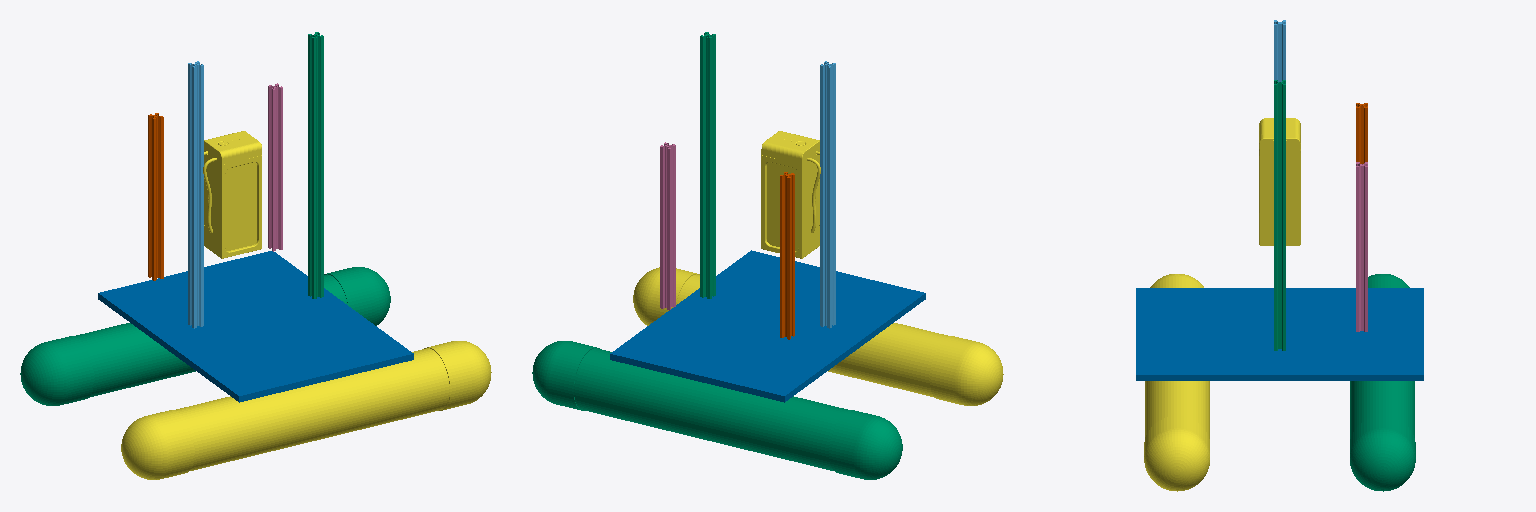
The robot description file, URDF, robot "asv_station_keeping_diag":
<?xml version='1.0' encoding='utf-8'?>
<robot name="asv_station_keeping_diag">
  <!-- Mesh-loading test only. Mounting poses are estimates, not Fusion occurrence transforms. 00_base has no visuals. -->
  <link name="base_footprint" />
  <link name="base_link">
    <inertial>
      <origin xyz="0 0 0" rpy="0 0 0" />
      <mass value="0.1" />
      <inertia ixx="0.0001" ixy="0" ixz="0" iyy="0.0001" iyz="0" izz="0.0001" />
    </inertial>
  </link>
  <link name="hull_left">
    <inertial>
      <origin xyz="0.0017543 -0.0000047 -0.0000010" rpy="0 0 0" />
      <mass value="8.7513272838" />
      <inertia ixx="0.0159438897" ixy="0" ixz="0" iyy="0.7485544942" iyz="0" izz="0.7485544942" />
    </inertial>
    <visual name="hull_left_visual">
      <origin xyz="-0.971730 0.357754 -1.641617" rpy="0 0 -1.57079632679" />
      <geometry>
        <mesh filename="package://asv_station_keeping/meshes/hull.stl" scale="0.001 0.001 0.001" />
      </geometry>
    </visual>
    <collision name="hull_left_collision">
      <geometry>
        <box size="0.724805 0.112973 0.112998" />
      </geometry>
    </collision>
  </link>
  <link name="hull_right">
    <inertial>
      <origin xyz="0.0017543 -0.0000047 -0.0000010" rpy="0 0 0" />
      <mass value="8.7513272838" />
      <inertia ixx="0.0159438897" ixy="0" ixz="0" iyy="0.7485544942" iyz="0" izz="0.7485544942" />
    </inertial>
    <visual name="hull_right_visual">
      <origin xyz="-0.971730 0.357754 -1.641617" rpy="0 0 -1.57079632679" />
      <geometry>
        <mesh filename="package://asv_station_keeping/meshes/hull.stl" scale="0.001 0.001 0.001" />
      </geometry>
    </visual>
    <collision name="hull_right_collision">
      <geometry>
        <box size="0.724805 0.112973 0.112998" />
      </geometry>
    </collision>
  </link>
  <link name="base_deck">
    <inertial>
      <origin xyz="0 0 0" rpy="0 0 0" />
      <mass value="16.1553" />
      <inertia ixx="0.3234344911" ixy="0" ixz="0" iyy="0.1651125511" iyz="0" izz="0.4881593150" />
    </inertial>
    <visual name="base_deck_visual">
      <origin xyz="-0.142254 -0.216347 -0.006000" rpy="1.57079632679 0 0" />
      <geometry>
        <mesh filename="package://asv_station_keeping/meshes/base_deck.stl" scale="0.001 0.001 0.001" />
      </geometry>
    </visual>
    <collision name="base_deck_collision">
      <geometry>
        <box size="0.350 0.490 0.012" />
      </geometry>
    </collision>
  </link>
  <link name="frame1_left">
    <inertial>
      <origin xyz="0 0 0" />
      <mass value="0.41469714" />
      <inertia ixx="0.00333785" ixy="0" ixz="0" iyy="0.00333785" iyz="0" izz="0.0000336422" />
    </inertial>
    <visual>
      <geometry>
        <mesh filename="package://asv_station_keeping/meshes/frame1.stl" scale="0.001 0.001 0.001" />
      </geometry>
    </visual>
    <collision>
      <geometry>
        <cylinder radius="0.010" length="0.310" />
      </geometry>
    </collision>
  </link>
  <link name="frame1_right">
    <inertial>
      <origin xyz="0 0 0" />
      <mass value="0.41469714" />
      <inertia ixx="0.00333785" ixy="0" ixz="0" iyy="0.00333785" iyz="0" izz="0.0000336422" />
    </inertial>
    <visual>
      <geometry>
        <mesh filename="package://asv_station_keeping/meshes/frame1.stl" scale="0.001 0.001 0.001" />
      </geometry>
    </visual>
    <collision>
      <geometry>
        <cylinder radius="0.010" length="0.310" />
      </geometry>
    </collision>
  </link>
  <link name="frame2_left">
    <inertial>
      <origin xyz="0 0 0" />
      <mass value="0.66886635" />
      <inertia ixx="0.01396185" ixy="0" ixz="0" iyy="0.01396185" iyz="0" izz="0.000054262" />
    </inertial>
    <visual>
      <geometry>
        <mesh filename="package://asv_station_keeping/meshes/frame2.stl" scale="0.001 0.001 0.001" />
      </geometry>
    </visual>
    <collision>
      <geometry>
        <cylinder radius="0.010" length="0.500" />
      </geometry>
    </collision>
  </link>
  <link name="frame2_right">
    <inertial>
      <origin xyz="0 0 0" />
      <mass value="0.66886635" />
      <inertia ixx="0.01396185" ixy="0" ixz="0" iyy="0.01396185" iyz="0" izz="0.000054262" />
    </inertial>
    <visual>
      <geometry>
        <mesh filename="package://asv_station_keeping/meshes/frame2.stl" scale="0.001 0.001 0.001" />
      </geometry>
    </visual>
    <collision>
      <geometry>
        <cylinder radius="0.010" length="0.500" />
      </geometry>
    </collision>
  </link>
  <link name="frame3_left">
    <inertial>
      <origin xyz="0 0 0" />
      <mass value="0.66886635" />
      <inertia ixx="0.01396185" ixy="0" ixz="0" iyy="0.01396185" iyz="0" izz="0.000054262" />
    </inertial>
    <visual>
      <geometry>
        <mesh filename="package://asv_station_keeping/meshes/frame3.stl" scale="0.001 0.001 0.001" />
      </geometry>
    </visual>
    <collision>
      <geometry>
        <cylinder radius="0.010" length="0.500" />
      </geometry>
    </collision>
  </link>
  <link name="frame3_right">
    <inertial>
      <origin xyz="0 0 0" />
      <mass value="0.66886635" />
      <inertia ixx="0.01396185" ixy="0" ixz="0" iyy="0.01396185" iyz="0" izz="0.000054262" />
    </inertial>
    <visual>
      <geometry>
        <mesh filename="package://asv_station_keeping/meshes/frame3.stl" scale="0.001 0.001 0.001" />
      </geometry>
    </visual>
    <collision>
      <geometry>
        <cylinder radius="0.010" length="0.500" />
      </geometry>
    </collision>
  </link>
  <link name="battery">
    <inertial>
      <origin xyz="0.011821 0 0.000846" />
      <mass value="8.29420474" />
      <inertia ixx="0.0317350" ixy="0" ixz="0.0000687" iyy="0.0339037" iyz="0" izz="0.00778636" />
    </inertial>
    <visual>
      <origin xyz="0.012244 -0.035000 -0.000150" />
      <geometry>
        <mesh filename="package://asv_station_keeping/meshes/battery.stl" scale="0.001 0.001 0.001" />
      </geometry>
    </visual>
    <collision>
      <geometry>
        <box size="0.109 0.070 0.202" />
      </geometry>
    </collision>
  </link>
  <joint name="base_footprint_to_base_link" type="fixed">
    <parent link="base_footprint" />
    <child link="base_link" />
    <origin xyz="0 0 0" rpy="0 0 0" />
  </joint>
  <joint name="base_to_hull_left" type="fixed">
    <parent link="base_link" />
    <child link="hull_left" />
    <origin xyz="0 0.175 0.055" rpy="0 0 0" />
  </joint>
  <joint name="base_to_hull_right" type="fixed">
    <parent link="base_link" />
    <child link="hull_right" />
    <origin xyz="0 -0.175 0.055" rpy="0 0 0" />
  </joint>
  <joint name="base_to_base_deck" type="fixed">
    <parent link="base_link" />
    <child link="base_deck" />
    <origin xyz="0 0 0.145" rpy="0 0 0" />
  </joint>
  <joint name="deck_to_frame1_left" type="fixed">
    <parent link="base_deck" />
    <child link="frame1_left" />
    <origin xyz="-0.12 0.14 0.22" />
  </joint>
  <joint name="deck_to_frame1_right" type="fixed">
    <parent link="base_deck" />
    <child link="frame1_right" />
    <origin xyz="0.12 0.14 0.22" />
  </joint>
  <joint name="deck_to_frame2_left" type="fixed">
    <parent link="base_deck" />
    <child link="frame2_left" />
    <origin xyz="-0.12 -0.14 0.28" />
  </joint>
  <joint name="deck_to_frame2_right" type="fixed">
    <parent link="base_deck" />
    <child link="frame2_right" />
    <origin xyz="0.12 -0.14 0.28" />
  </joint>
  <joint name="deck_to_frame3_left" type="fixed">
    <parent link="base_deck" />
    <child link="frame3_left" />
    <origin xyz="-0.12 0 0.28" />
  </joint>
  <joint name="deck_to_frame3_right" type="fixed">
    <parent link="base_deck" />
    <child link="frame3_right" />
    <origin xyz="0.12 0 0.28" />
  </joint>
  <joint name="deck_to_battery" type="fixed">
    <parent link="base_deck" />
    <child link="battery" />
    <origin xyz="-0.06 0 0.265" />
  </joint>
</robot>

--- What the picture shows (computed from the rendered views, not written in the file) ---
Views: 3 orthographic renders of the robot side by side, from view 1: azimuth 30°, elevation 25°; view 2: azimuth 150°, elevation 25°; view 3: azimuth 270°, elevation 25°.
Robot: asv_station_keeping_diag — 12 links, 11 joints (11 fixed); root link base_footprint; default pose: all joints at 0.
Visible links, largest first — view 1: base_deck, hull_right, hull_left, battery, frame3_right, frame3_left, frame1_left, frame1_right; view 2: base_deck, hull_left, hull_right, battery, frame3_right, frame3_left, frame1_right, frame1_left; view 3: base_deck, hull_right, hull_left, battery, frame3_right, frame1_right, frame3_left, frame1_left.
Boxes of the visible links, x1,y1,x2,y2 form: base_deck: (98,251,413,402); hull_right: (121,341,491,479); hull_left: (20,267,390,405); battery: (203,131,261,258); frame3_right: (308,32,323,298); frame3_left: (188,61,203,328); frame1_left: (148,113,163,280); frame1_right: (268,83,282,251); base_deck: (610,250,925,402); hull_left: (532,341,902,479); hull_right: (633,267,1003,405); battery: (761,131,820,258); frame3_right: (700,32,715,298); frame3_left: (820,61,835,328); frame1_right: (660,142,675,310); frame1_left: (780,172,794,339); base_deck: (1136,288,1423,380); hull_right: (1144,274,1209,491); hull_left: (1350,274,1415,491); battery: (1259,118,1300,245); frame3_right: (1274,80,1285,350); frame1_right: (1356,162,1367,331); frame3_left: (1274,20,1285,81); frame1_left: (1356,103,1367,163).
Size in the robot's own frame: 0.7248 by 0.49 by 0.6765 metres.
Meshes: 6 distinct files referenced, 8 mesh visuals loaded (5 binary STL); not drawn: 2 (reference not matched to a file when rendering).
